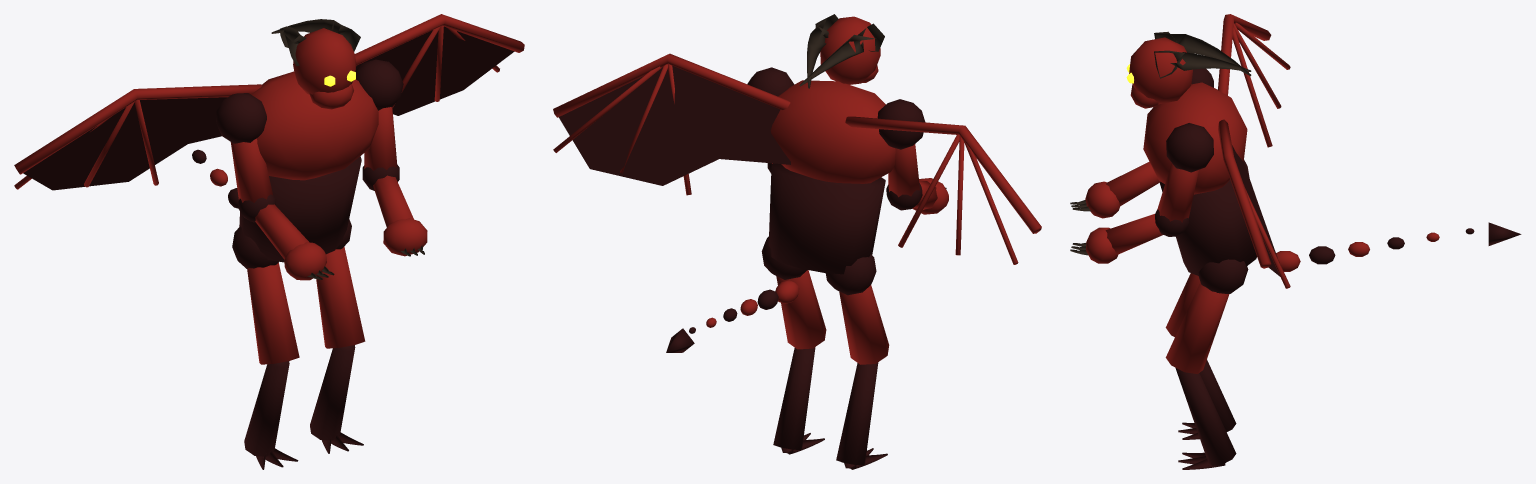
Rendered from gothic-fiend.glb.
The picture shows the model from 3 angles, left to right: view 1: azimuth 30°, elevation 25°; view 2: azimuth 150°, elevation 25°; view 3: azimuth 270°, elevation 25°; orthographic projection. The views are drawn at different scales.
Parts seen in each view (by area): view 1: Body Mesh, WingR Mesh, WingL Mesh, Head Mesh, LegB 0 Mesh, ArmR Mesh, LegA 0 Mesh, ArmR Elbow Mesh, ArmL Elbow Mesh, ArmL Mesh, LegB 0 Knee Mesh, LegA 0 Knee Mesh; view 2: WingL Mesh, Body Mesh, WingR Mesh, Head Mesh, LegB 0 Mesh, LegA 0 Mesh, LegB 0 Knee Mesh, LegA 0 Knee Mesh, ArmR Mesh, ArmR Elbow Mesh, ArmL Mesh; view 3: Body Mesh, Head Mesh, LegA 0 Mesh, ArmL Mesh, LegA 0 Knee Mesh, WingL Mesh, ArmL Elbow Mesh, WingR Mesh, ArmR Elbow Mesh, LegB 0 Knee Mesh, LegB 0 Mesh, Tail 5 Mesh.
Part boxes in pixels (x1,y1,x2,y2): Body Mesh: (239, 71, 378, 262); WingR Mesh: (14, 84, 261, 190); WingL Mesh: (354, 14, 524, 115); Head Mesh: (271, 19, 360, 109); LegB 0 Mesh: (232, 226, 299, 364); ArmR Mesh: (216, 93, 272, 202); LegA 0 Mesh: (316, 219, 365, 348); ArmR Elbow Mesh: (238, 194, 334, 280); ArmL Elbow Mesh: (362, 164, 427, 256); ArmL Mesh: (355, 59, 403, 170); LegB 0 Knee Mesh: (244, 361, 298, 469); LegA 0 Knee Mesh: (310, 345, 363, 453); WingL Mesh: (553, 53, 790, 195); Body Mesh: (768, 80, 895, 274); WingR Mesh: (845, 116, 1041, 264); Head Mesh: (799, 14, 884, 88); LegB 0 Mesh: (825, 254, 889, 364); LegA 0 Mesh: (761, 236, 826, 349); LegB 0 Knee Mesh: (836, 362, 887, 469); LegA 0 Knee Mesh: (773, 347, 824, 454); ArmR Mesh: (877, 99, 925, 197); ArmR Elbow Mesh: (886, 178, 948, 214); ArmL Mesh: (747, 67, 794, 163); Body Mesh: (1143, 82, 1256, 275); Head Mesh: (1126, 31, 1251, 108); LegA 0 Mesh: (1165, 259, 1248, 373); ArmL Mesh: (1157, 123, 1213, 222); LegA 0 Knee Mesh: (1175, 368, 1236, 469); WingL Mesh: (1218, 119, 1290, 288); ArmL Elbow Mesh: (1070, 209, 1188, 263); WingR Mesh: (1218, 14, 1290, 147); ArmR Elbow Mesh: (1070, 161, 1160, 218); LegB 0 Knee Mesh: (1178, 360, 1236, 439); LegB 0 Mesh: (1165, 273, 1200, 336); Tail 5 Mesh: (1465, 222, 1521, 245).
Bounding box in the file's own units: 2.48 × 2.04 × 2.04.
